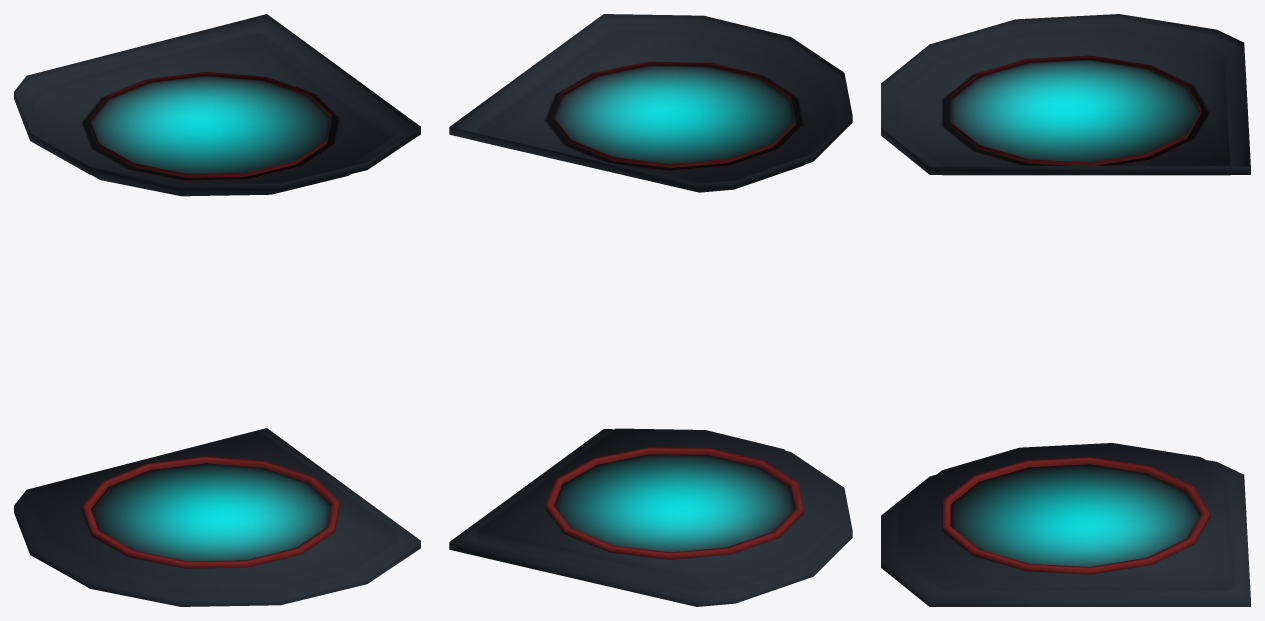
The model's file is teleport.fbx.
3 renders of one model, left to right at view 1: azimuth 30°, elevation 25°; view 2: azimuth 150°, elevation 25°; view 3: azimuth 270°, elevation 25°, orthographic. The views are drawn at different scales.
Parts seen in each view (by area): view 1: teleport; view 2: teleport; view 3: teleport.
Part boxes in pixels (bbox=[...]): teleport: bbox=[14, 14, 420, 606]; teleport: bbox=[449, 14, 852, 606]; teleport: bbox=[881, 14, 1250, 606].
Bounding box in the file's own units: 155 × 209 × 159.
